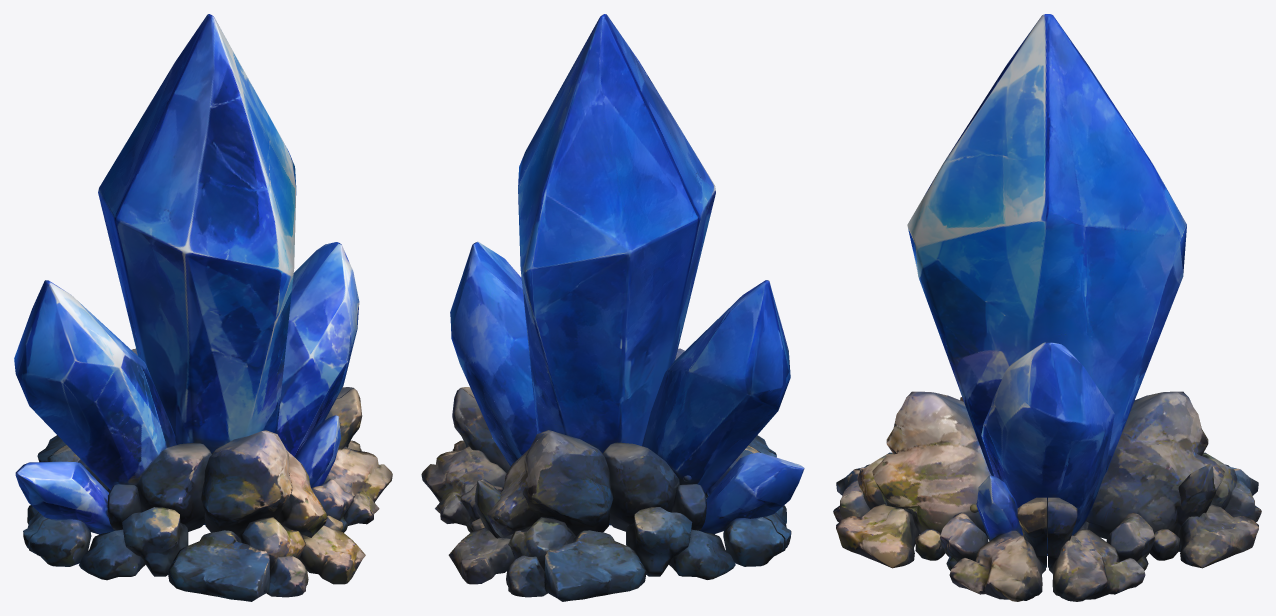
The model's file is blue+crystal+cluster+3d+model.fbx.
3 views of the same model, side by side, from view 1: azimuth 30°, elevation 25°; view 2: azimuth 150°, elevation 25°; view 3: azimuth 270°, elevation 25° (orthographic). The views are drawn at different scales.
Parts seen in each view (by area): view 1: tripo_9a796649_ed94_48f7_bba4_42f240d81320; view 2: tripo_9a796649_ed94_48f7_bba4_42f240d81320; view 3: tripo_9a796649_ed94_48f7_bba4_42f240d81320.
Part boxes in pixels (<box>): tripo_9a796649_ed94_48f7_bba4_42f240d81320: <box>14,14,392,601</box>; tripo_9a796649_ed94_48f7_bba4_42f240d81320: <box>421,14,804,601</box>; tripo_9a796649_ed94_48f7_bba4_42f240d81320: <box>833,14,1261,601</box>.
Bounding box in the file's own units: 0.7446 × 0.9995 × 0.7446.
